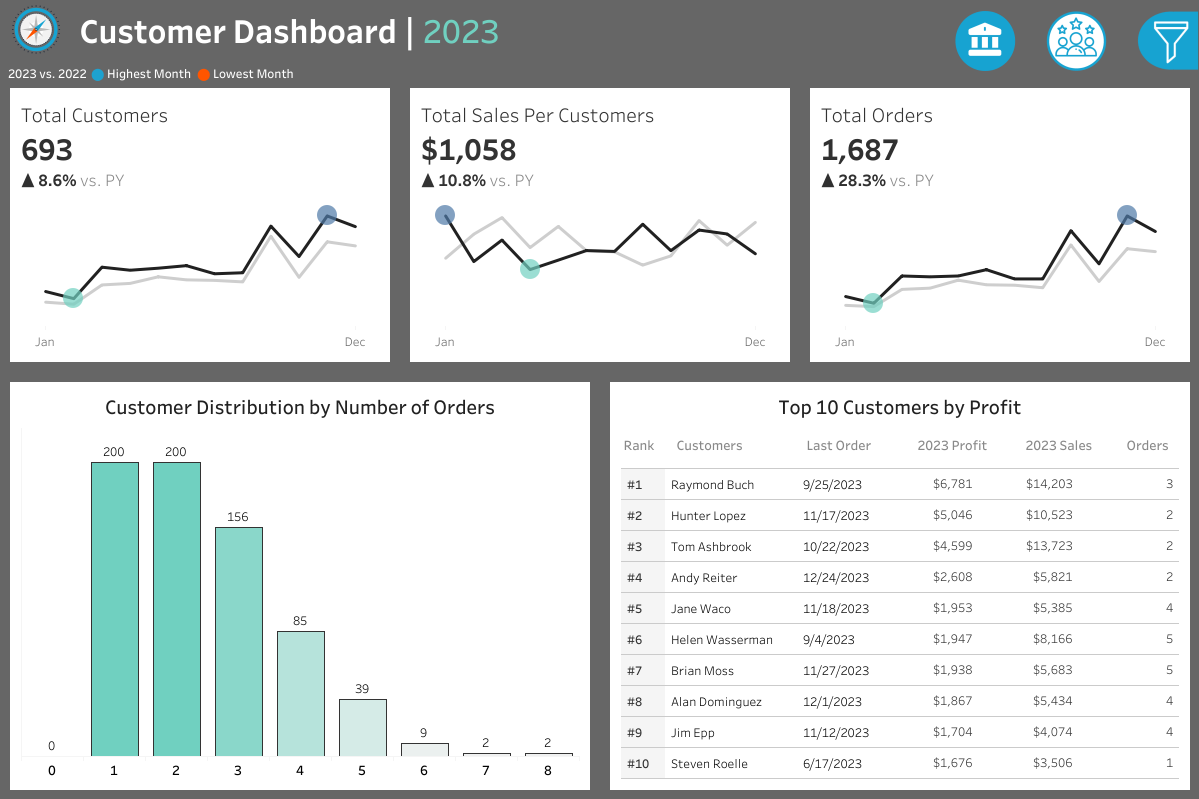

This screenshot's page, from the dashboard's own definition file:
{"tool":"tableau","page":{"name":"Customer Dashboard","canvas":[1200,800],"ordinal":0},"visuals":[{"type":"image","param":"Image/Icon - Logo.png","box":[0,0,73,59]},{"type":"text","box":[73,0,820,59]},{"type":"dashboard-object","box":[940,6,91,70]},{"type":"dashboard-object","box":[1031,6,91,70]},{"type":"blank","box":[952,10,237,86]},{"type":"worksheet","title":"Legend KPI (2)","mark":"Automatic","box":[0,59,1200,29]},{"type":"worksheet","title":"KPI Customers","mark":"Automatic","rows":["Min/Max Quantity (copy)_3221481164588691468"],"cols":["Order Date"],"box":[0,88,400,284]},{"type":"worksheet","title":"KPI Sales Per Customers","mark":"Automatic","rows":["Min/Max Quantity (copy)_3221481164537155591"],"cols":["Order Date"],"box":[400,88,400,284]},{"type":"worksheet","title":"KPI Orders","mark":"Automatic","rows":["Min/Max Sales (copy)_3221481164601258003"],"cols":["Order Date"],"box":[800,88,400,284]},{"type":"text","box":[952,96,237,34]},{"type":"parameter","param":"[Parameters].[Parameter 1]","box":[952,130,237,52]},{"type":"text","box":[952,182,237,29]},{"type":"filter","title":"KPI Customers","param":"[federated.1kpxa041aiai2y1cl4pui1t4eju9].[none:Category:nk]","box":[952,211,237,52]},{"type":"filter","title":"KPI Customers","param":"[federated.1kpxa041aiai2y1cl4pui1t4eju9].[none:Sub-Category:nk]","box":[952,263,237,52]},{"type":"blank","box":[952,315,237,60]},{"type":"text","box":[952,375,237,29]},{"type":"text","box":[17,389,566,34]},{"type":"text","box":[617,389,566,34]},{"type":"filter","title":"KPI Customers","param":"[federated.1kpxa041aiai2y1cl4pui1t4eju9].[none:Region:nk]","box":[952,404,237,52]},{"type":"worksheet","title":"Customer Distribution","mark":"Bar","rows":["CY Sales (copy)_3221481164532666369"],"cols":["Calculation_998110323739992064"],"box":[17,423,566,360]},{"type":"text","box":[617,423,53,40]},{"type":"text","box":[670,423,130,40]},{"type":"text","box":[800,423,111,40]},{"type":"text","box":[911,423,108,40]},{"type":"text","box":[1019,423,101,40]},{"type":"text","box":[1120,423,63,40]},{"type":"filter","title":"KPI Customers","param":"[federated.1kpxa041aiai2y1cl4pui1t4eju9].[none:State:nk]","box":[952,456,237,52]},{"type":"worksheet","title":"Top Customers","mark":"Automatic","rows":["Calculation_782500491678904334","Customer Name","Order Date"],"box":[617,463,566,320]},{"type":"filter","title":"KPI Customers","param":"[federated.1kpxa041aiai2y1cl4pui1t4eju9].[none:City:nk]","box":[952,508,237,52]}]}

Visuals, with their boxes in screenshot pixels (x1, y1, x2, y2), scaled from the page's 1200x800 canvas onto the 1199x799 screenshot:
image: bbox(0, 0, 73, 59)
text: bbox(73, 0, 892, 59)
dashboard-object: bbox(939, 6, 1030, 76)
dashboard-object: bbox(1030, 6, 1121, 76)
blank: bbox(951, 10, 1188, 96)
"Legend KPI (2)" worksheet: bbox(0, 59, 1198, 88)
"KPI Customers" worksheet: bbox(0, 88, 400, 372)
"KPI Sales Per Customers" worksheet: bbox(400, 88, 799, 372)
"KPI Orders" worksheet: bbox(799, 88, 1198, 372)
text: bbox(951, 96, 1188, 130)
parameter: bbox(951, 130, 1188, 182)
text: bbox(951, 182, 1188, 211)
"KPI Customers" filter: bbox(951, 211, 1188, 263)
"KPI Customers" filter: bbox(951, 263, 1188, 315)
blank: bbox(951, 315, 1188, 375)
text: bbox(951, 375, 1188, 403)
text: bbox(17, 389, 583, 422)
text: bbox(616, 389, 1182, 422)
"KPI Customers" filter: bbox(951, 403, 1188, 455)
"Customer Distribution" worksheet (Bar marks): bbox(17, 422, 583, 782)
text: bbox(616, 422, 669, 462)
text: bbox(669, 422, 799, 462)
text: bbox(799, 422, 910, 462)
text: bbox(910, 422, 1018, 462)
text: bbox(1018, 422, 1119, 462)
text: bbox(1119, 422, 1182, 462)
"KPI Customers" filter: bbox(951, 455, 1188, 507)
"Top Customers" worksheet: bbox(616, 462, 1182, 782)
"KPI Customers" filter: bbox(951, 507, 1188, 559)
